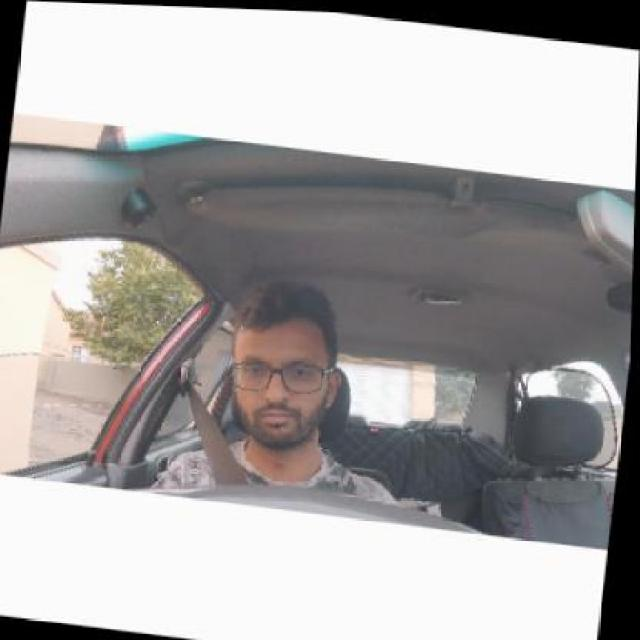person: (227, 300, 342, 446)
